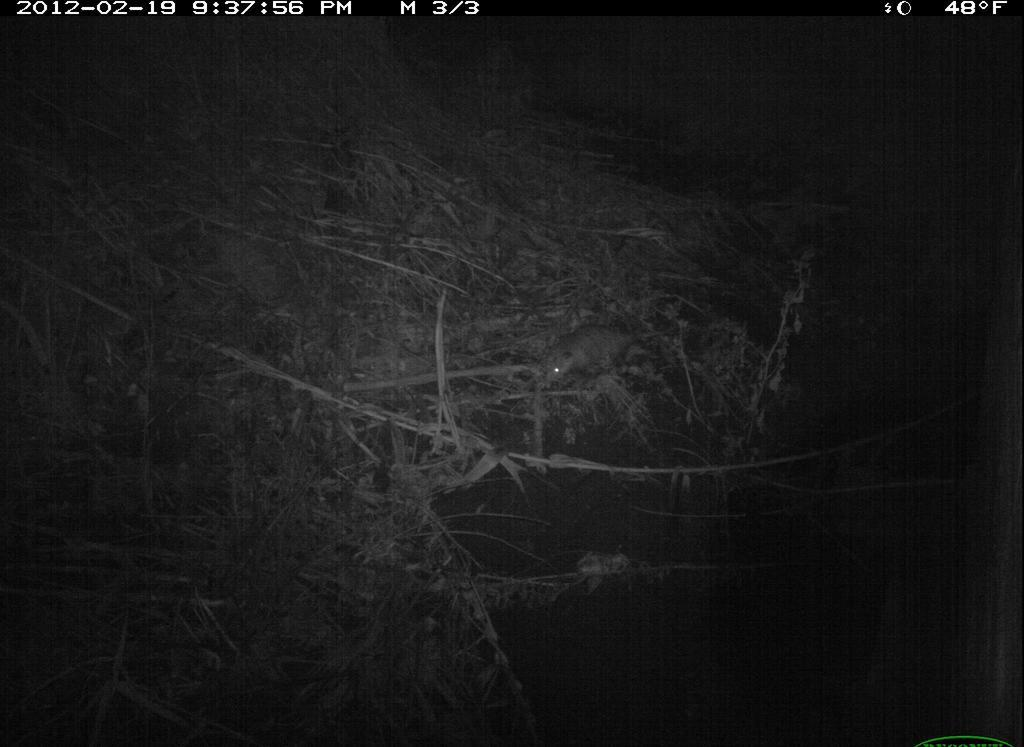opossum: (523, 315, 678, 400)
